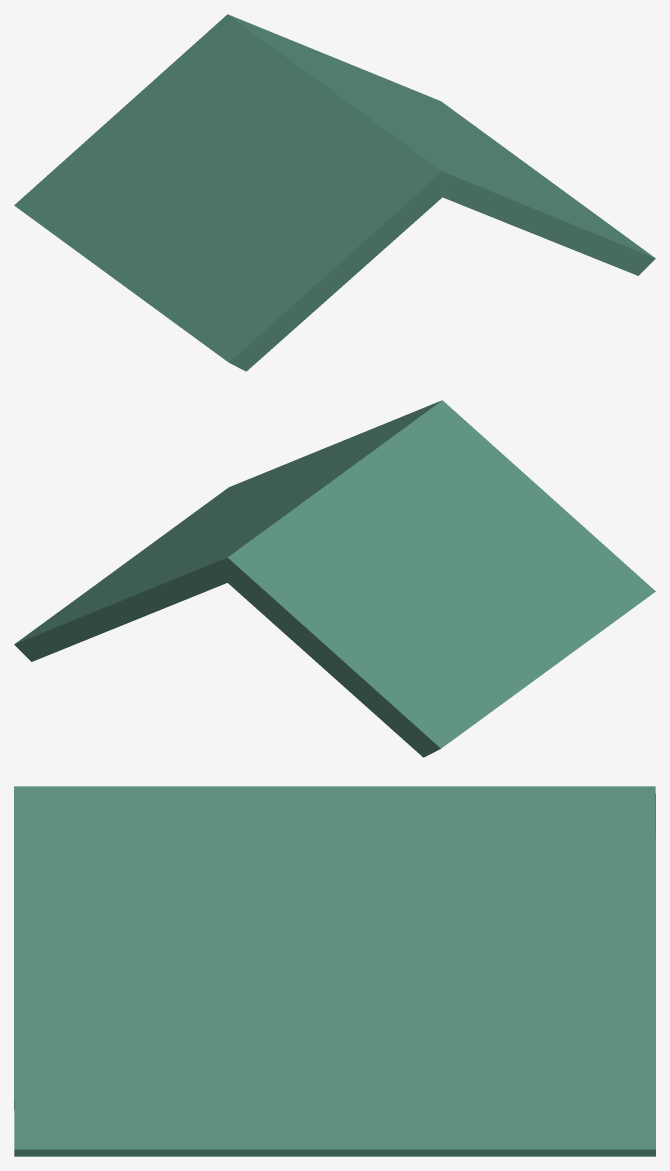
File: roof.fbx
The picture shows the model from 3 angles, top to bottom: view 1: azimuth 30°, elevation 25°; view 2: azimuth 150°, elevation 25°; view 3: azimuth 270°, elevation 25°; orthographic projection. The views are drawn at different scales.
Visible parts, largest first — view 1: Object013; view 2: Object013; view 3: Object013.
Part boxes in pixels (x1=…): Object013: x1=14, y1=14, x2=655, y2=371; Object013: x1=14, y1=400, x2=655, y2=757; Object013: x1=14, y1=786, x2=655, y2=1156.
Size of the model in its own units: 1950 by 665 by 1700.
